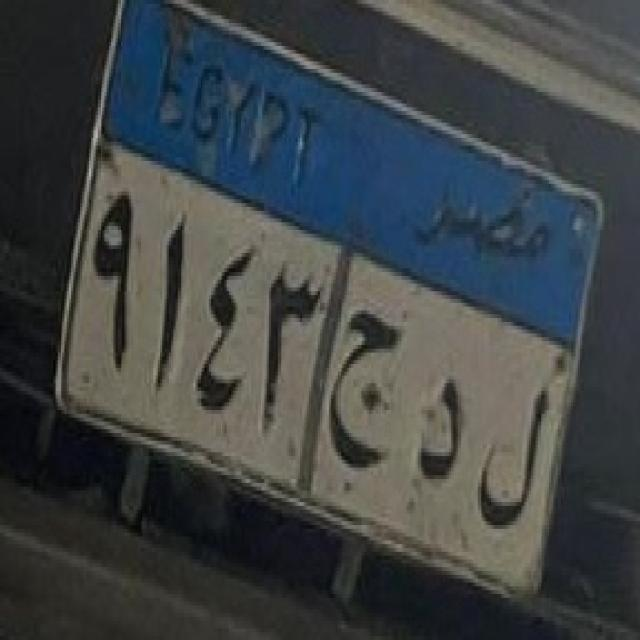1: (144, 212, 198, 400)
3: (254, 255, 323, 440)
4: (191, 232, 261, 429)
9: (80, 182, 153, 379)
Laam: (468, 370, 562, 544)
daal: (416, 362, 473, 492)
geem: (321, 308, 412, 478)
